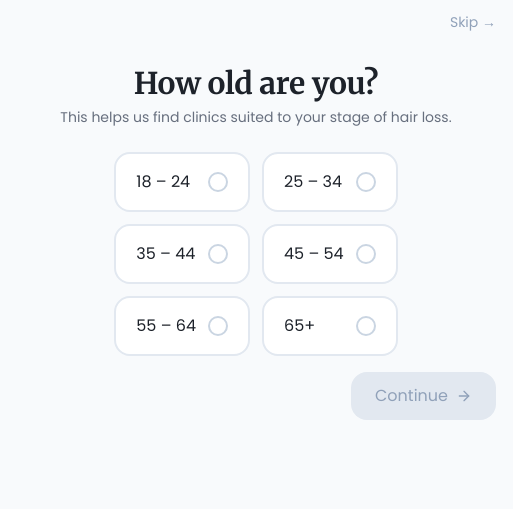
Test: GetStarted › Back from step 1 returns to step 0
The width and height of the screenshot is (513, 509).
Click the button "18 – 24" at (182, 182), box 114,152 -> 250,212
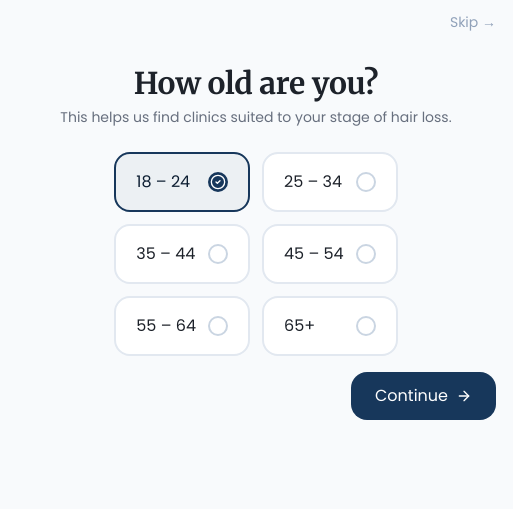
Click the button "Continue" at (424, 396), box 351,372 -> 496,420
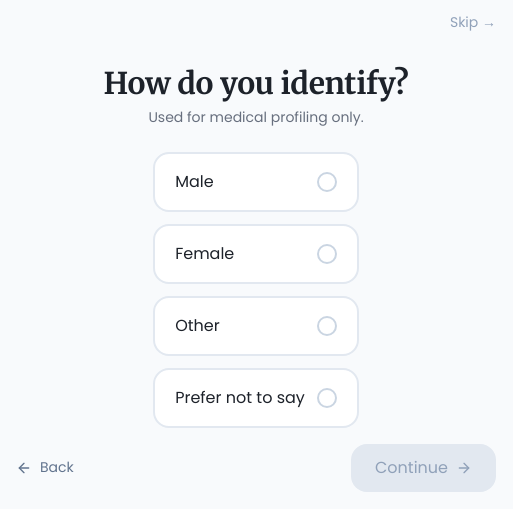
Expected: the heading "How do you identify?" is shown, 104,65 -> 408,102
Click the button "Back" at (45, 468), box 16,457 -> 74,478
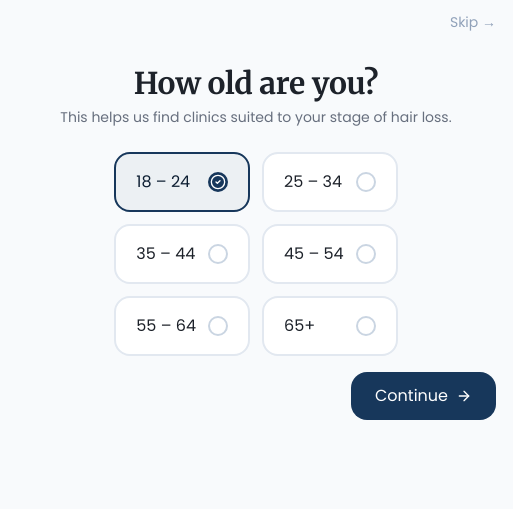
Expected: the heading "How old are you?" is shown, 134,65 -> 378,102
